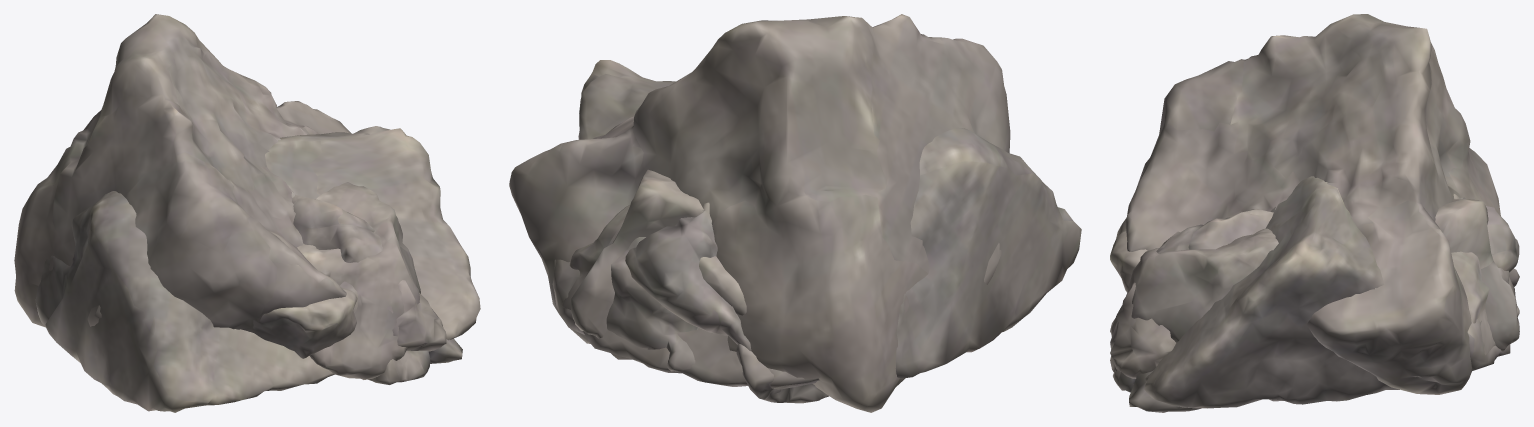
The model's file is rocks.glb.
The picture shows the model from 3 angles, left to right: view 1: azimuth 30°, elevation 25°; view 2: azimuth 150°, elevation 25°; view 3: azimuth 270°, elevation 25°; orthographic projection. The views are drawn at different scales.
Visible parts, largest first — view 1: rock_3, rock_2, rock_5, rock_0, rock_4, rock_1; view 2: rock_3, rock_2, rock_0, rock_4, rock_5, rock_1; view 3: rock_3, rock_2, rock_5, rock_0, rock_4, rock_1.
Boxes of the visible parts, x1,y1,x2,y2 form: rock_3: [14, 14, 351, 332]; rock_2: [35, 126, 480, 412]; rock_5: [297, 182, 420, 379]; rock_0: [292, 194, 446, 351]; rock_4: [253, 287, 357, 358]; rock_1: [368, 338, 462, 384]; rock_3: [509, 14, 1010, 412]; rock_2: [552, 60, 1081, 389]; rock_0: [625, 202, 751, 351]; rock_4: [561, 204, 746, 372]; rock_5: [571, 169, 703, 359]; rock_1: [736, 343, 828, 403]; rock_3: [1125, 14, 1500, 394]; rock_2: [1113, 176, 1515, 408]; rock_5: [1110, 199, 1519, 351]; rock_0: [1110, 194, 1519, 378]; rock_4: [1110, 229, 1519, 355]; rock_1: [1110, 268, 1519, 412].
Bounding box in the file's own units: 0.85 × 0.7065 × 0.85.
1 material, 1 textured.
